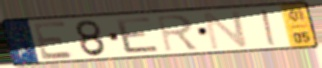8: (74, 19, 108, 58)
E: (113, 15, 163, 55), (30, 20, 76, 61)
I: (259, 8, 280, 47)
N: (202, 9, 251, 51)
R: (155, 13, 201, 54)
